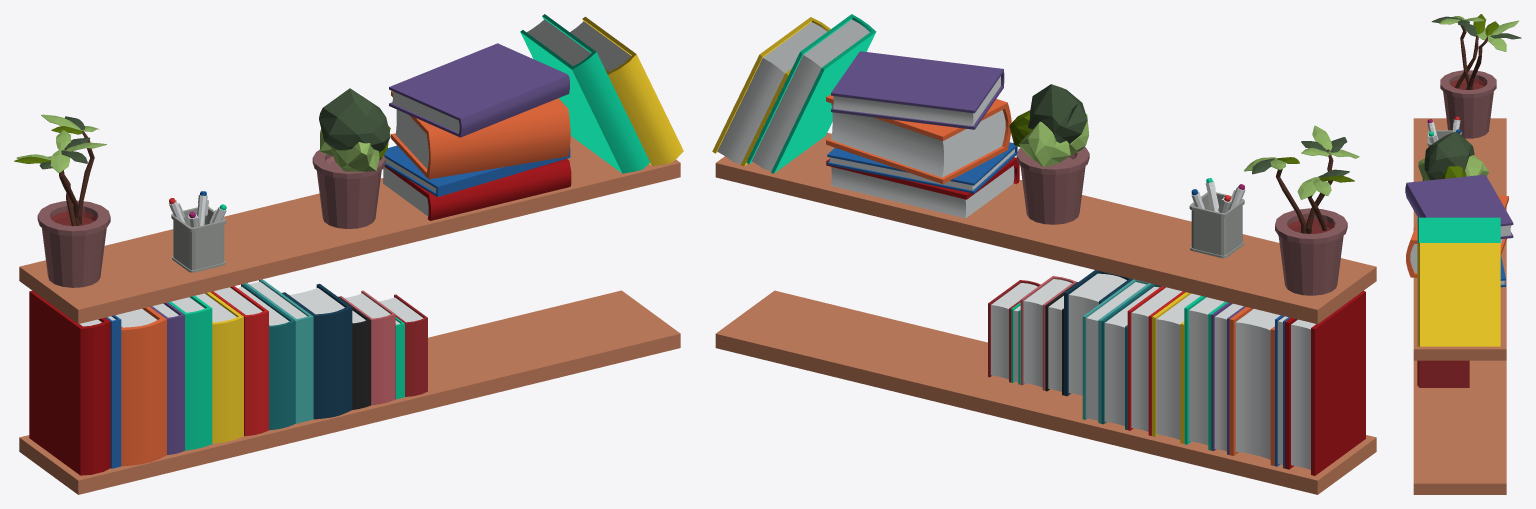
File: Library.fbx
3 renders of one model, left to right at view 1: azimuth 30°, elevation 25°; view 2: azimuth 150°, elevation 25°; view 3: azimuth 270°, elevation 25°, orthographic. The views are drawn at different scales.
Visible parts, largest first — view 1: Plane.102; view 2: Plane.102; view 3: Plane.102.
Boxes of the visible parts, x1=… form: Plane.102: x1=14, y1=14, x2=683, y2=494; Plane.102: x1=712, y1=14, x2=1376, y2=494; Plane.102: x1=1405, y1=14, x2=1521, y2=494.
Size of the model in its own units: 391 by 194 by 79.37.
2 materials, 2 textured.
